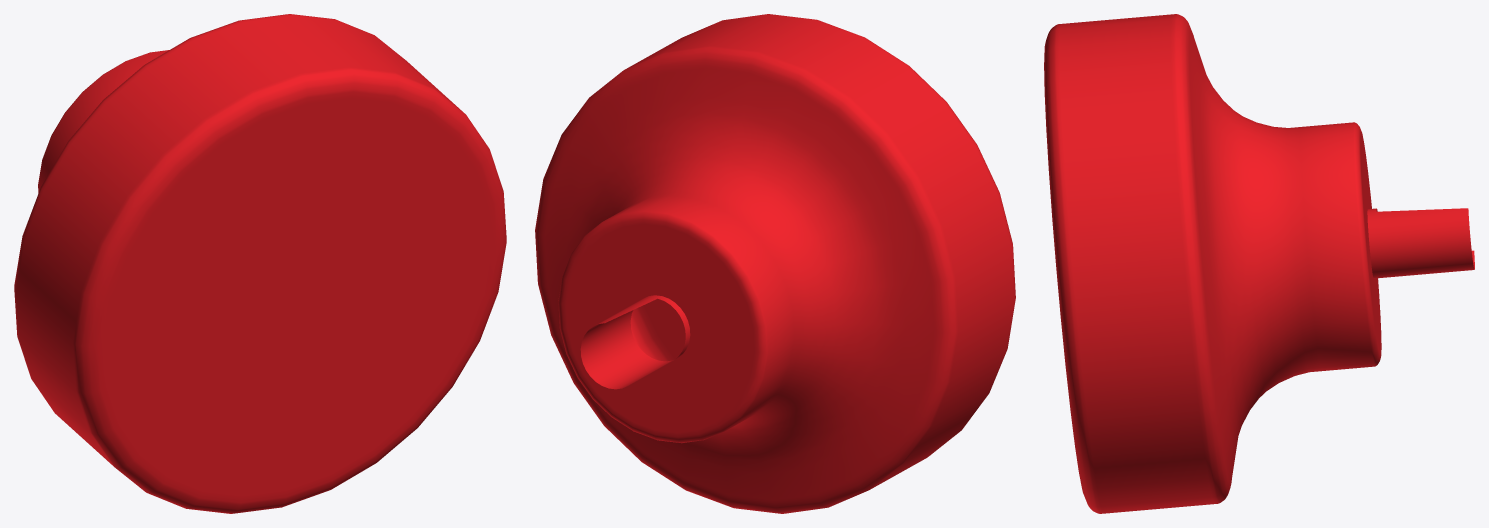
The model's file is manija.obj.
3 renders of one model, left to right at view 1: azimuth 30°, elevation 25°; view 2: azimuth 150°, elevation 25°; view 3: azimuth 270°, elevation 25°, orthographic. The views are drawn at different scales.
Visible parts, largest first — view 1: ARCHMODELS_47_050_23.001; view 2: ARCHMODELS_47_050_23.001; view 3: ARCHMODELS_47_050_23.001.
Part boxes in pixels (box(x1,y1,x2,y2)): ARCHMODELS_47_050_23.001: box(14, 14, 506, 513); ARCHMODELS_47_050_23.001: box(535, 14, 1015, 513); ARCHMODELS_47_050_23.001: box(1044, 14, 1474, 513).
Size of the model in its own units: 0.0365 by 0.0372 by 0.032.
